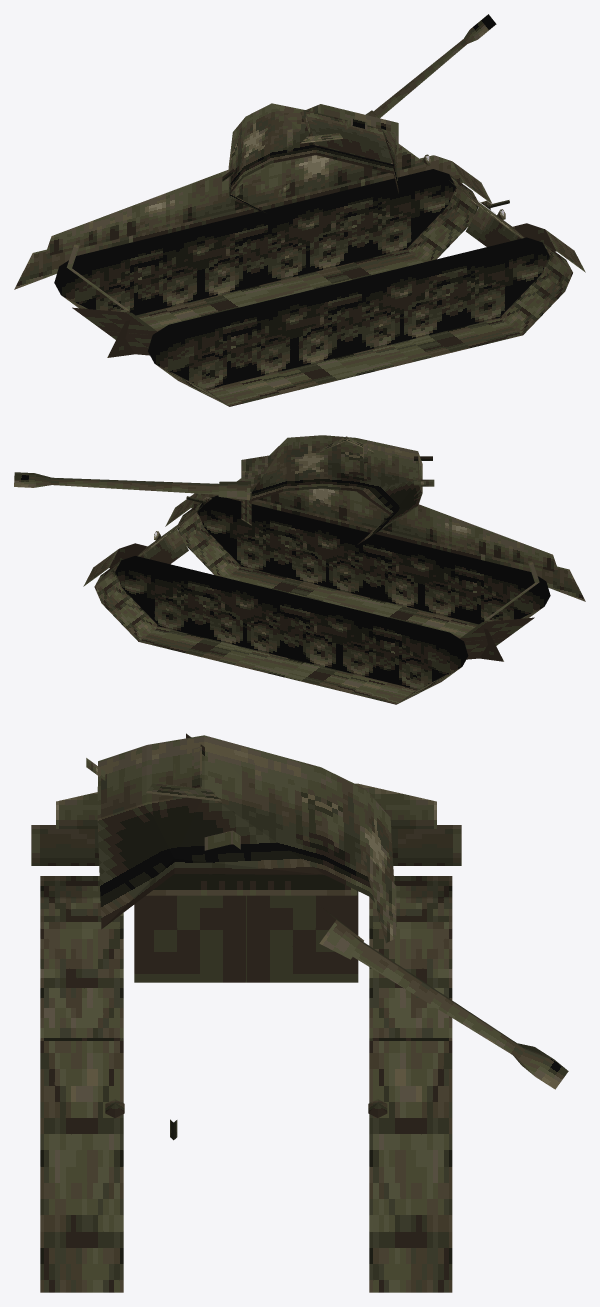
The model's file is ps2_save-icons_thetank.glb.
3 views of the same model, one above another, from view 1: azimuth 30°, elevation 25°; view 2: azimuth 150°, elevation 25°; view 3: azimuth 270°, elevation 25° (orthographic). The views are drawn at different scales.
Visible parts, largest first — view 1: icon1.ico; view 2: icon1.ico; view 3: icon1.ico.
Part boxes in pixels (x1,y1,x2,y2): icon1.ico: (14,14,585,406); icon1.ico: (14,435,585,704); icon1.ico: (31,733,568,1292).
Bounding box in the file's own units: 4.45 × 1.83 × 2.33.
Materials: 1 (1 with a texture image).
